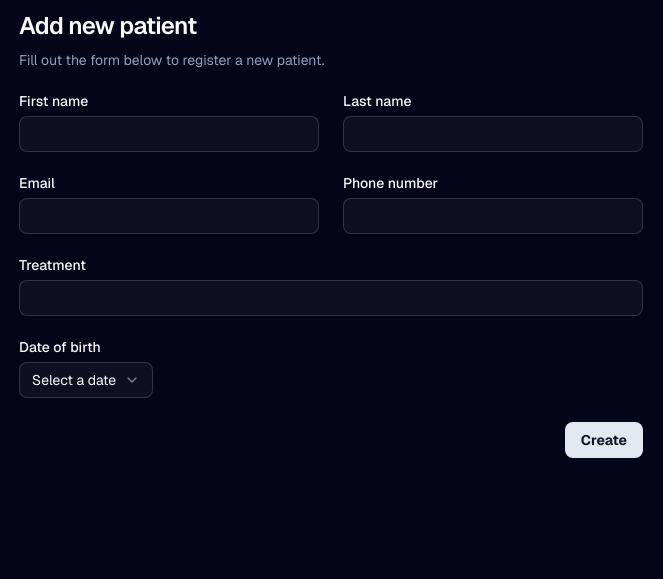
Test: PatientForm › validates phone number format
Type "123" into the field labelled "Phone number" at (493, 216), box [343, 198, 643, 234]
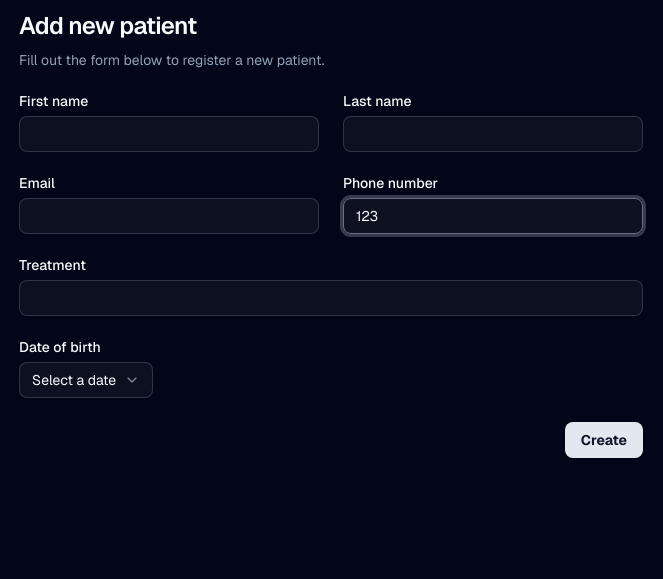
Click the button "Create" at (604, 440), box [565, 422, 643, 458]
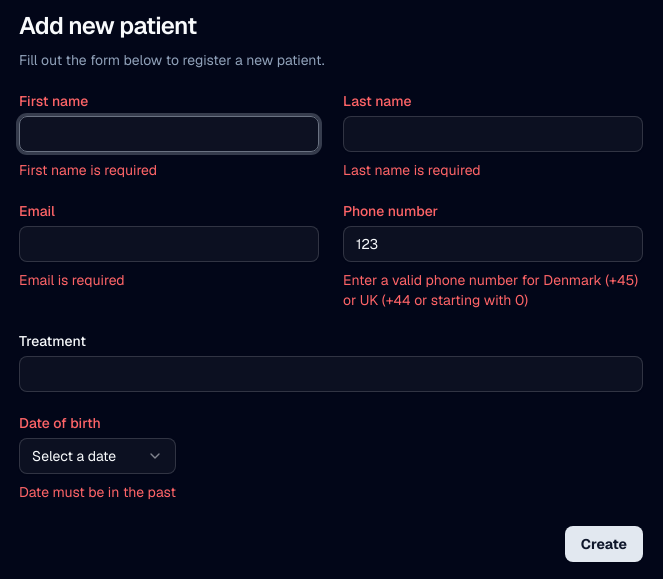
Now the text "Enter a valid phone number for Denmark (+45) or UK (+44 or starting with 0)" is shown, box [343, 270, 643, 310]
